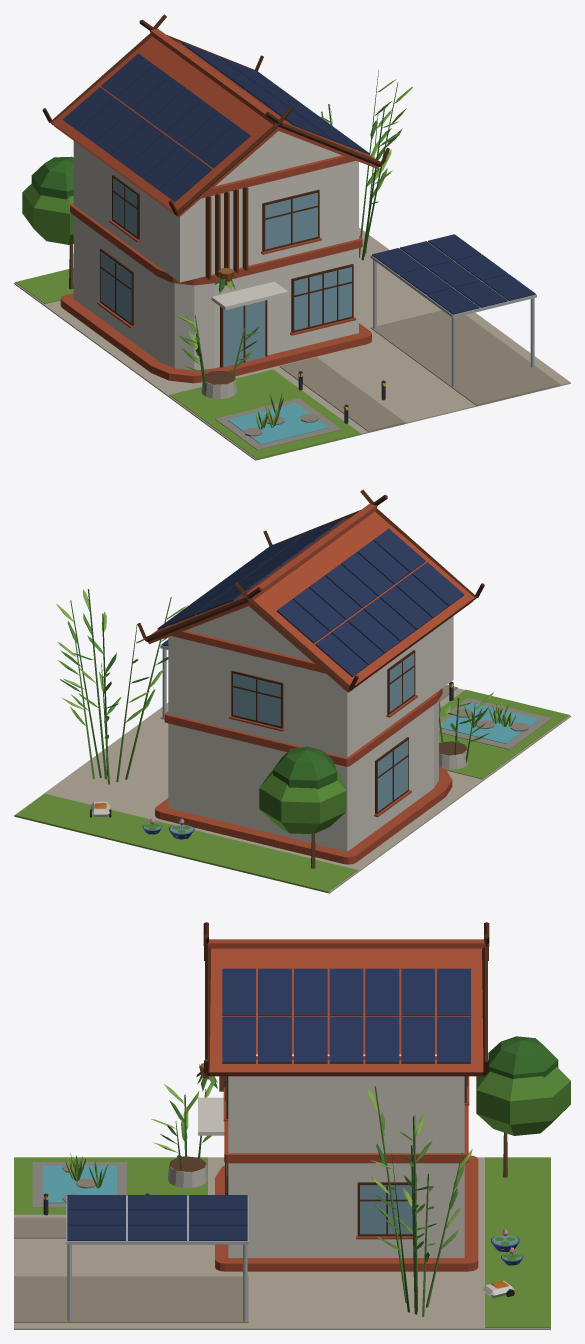
The model's file is house12_1.glb.
3 renders of one model, top to bottom at view 1: azimuth 30°, elevation 25°; view 2: azimuth 150°, elevation 25°; view 3: azimuth 270°, elevation 25°, orthographic. The views are drawn at different scales.
Parts seen in each view (by area): view 1: body; view 2: body; view 3: body.
Part boxes in pixels (x1,y1,x2,y2): body: (14,14,570,460); body: (14,489,570,893); body: (14,922,570,1329).
Size of the model in its own units: 12.79 by 9.5 by 16.5.
